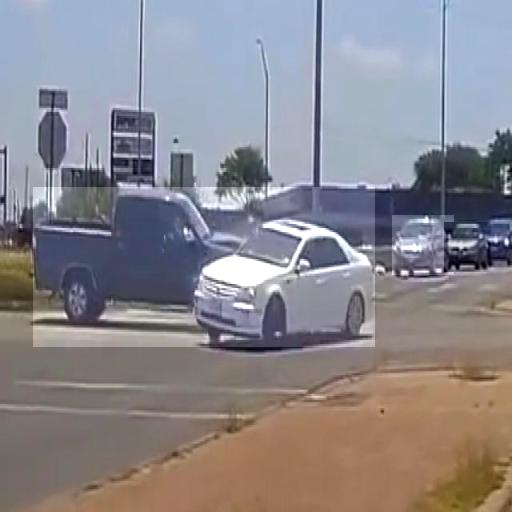小汽车: (392, 216, 454, 276), (444, 222, 491, 272)
小汽车撞小汽车: (33, 187, 375, 347)
